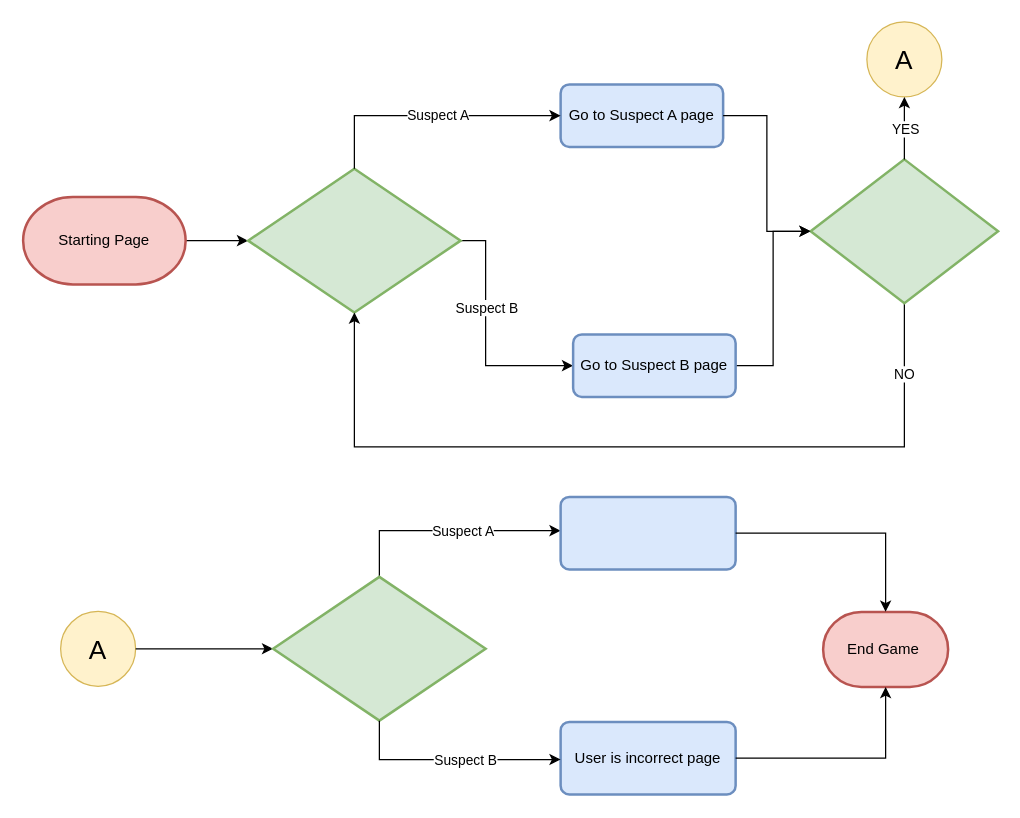
The diagram is 1020 pixels wide and 818 high, and some of its shapes have lost their labels. The box of each missing label's shape, as (x1, y1, x2, y2) in pixels:
Have I seen all perspectives: (809, 158, 999, 304)
Pick who you think did the murder: (271, 575, 486, 721)
User is correct page: (559, 495, 736, 570)
Who's perspective do I pick: (246, 167, 461, 313)
